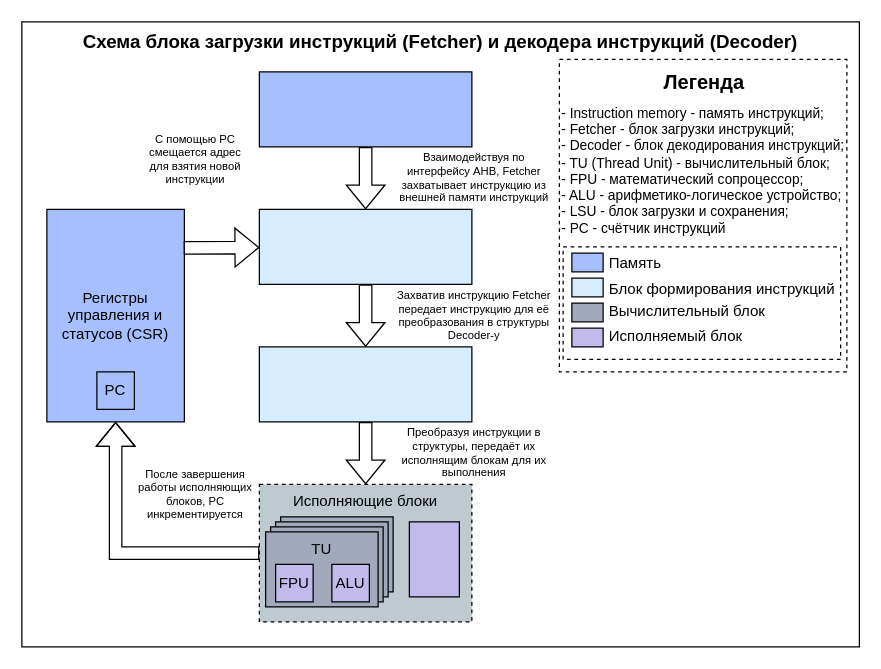
This 881x669 diagram has some shape labels left out. The shapes that lost their labels are listed below. From the top down, each one's centre as x and y in pixels, then its label:
point 365,109: Память инструкций
point 365,246: Блок захвата инструкций (Fetcher)
point 365,384: Блок декодирования инструкций (Decoder)
point 433,559: LSU
